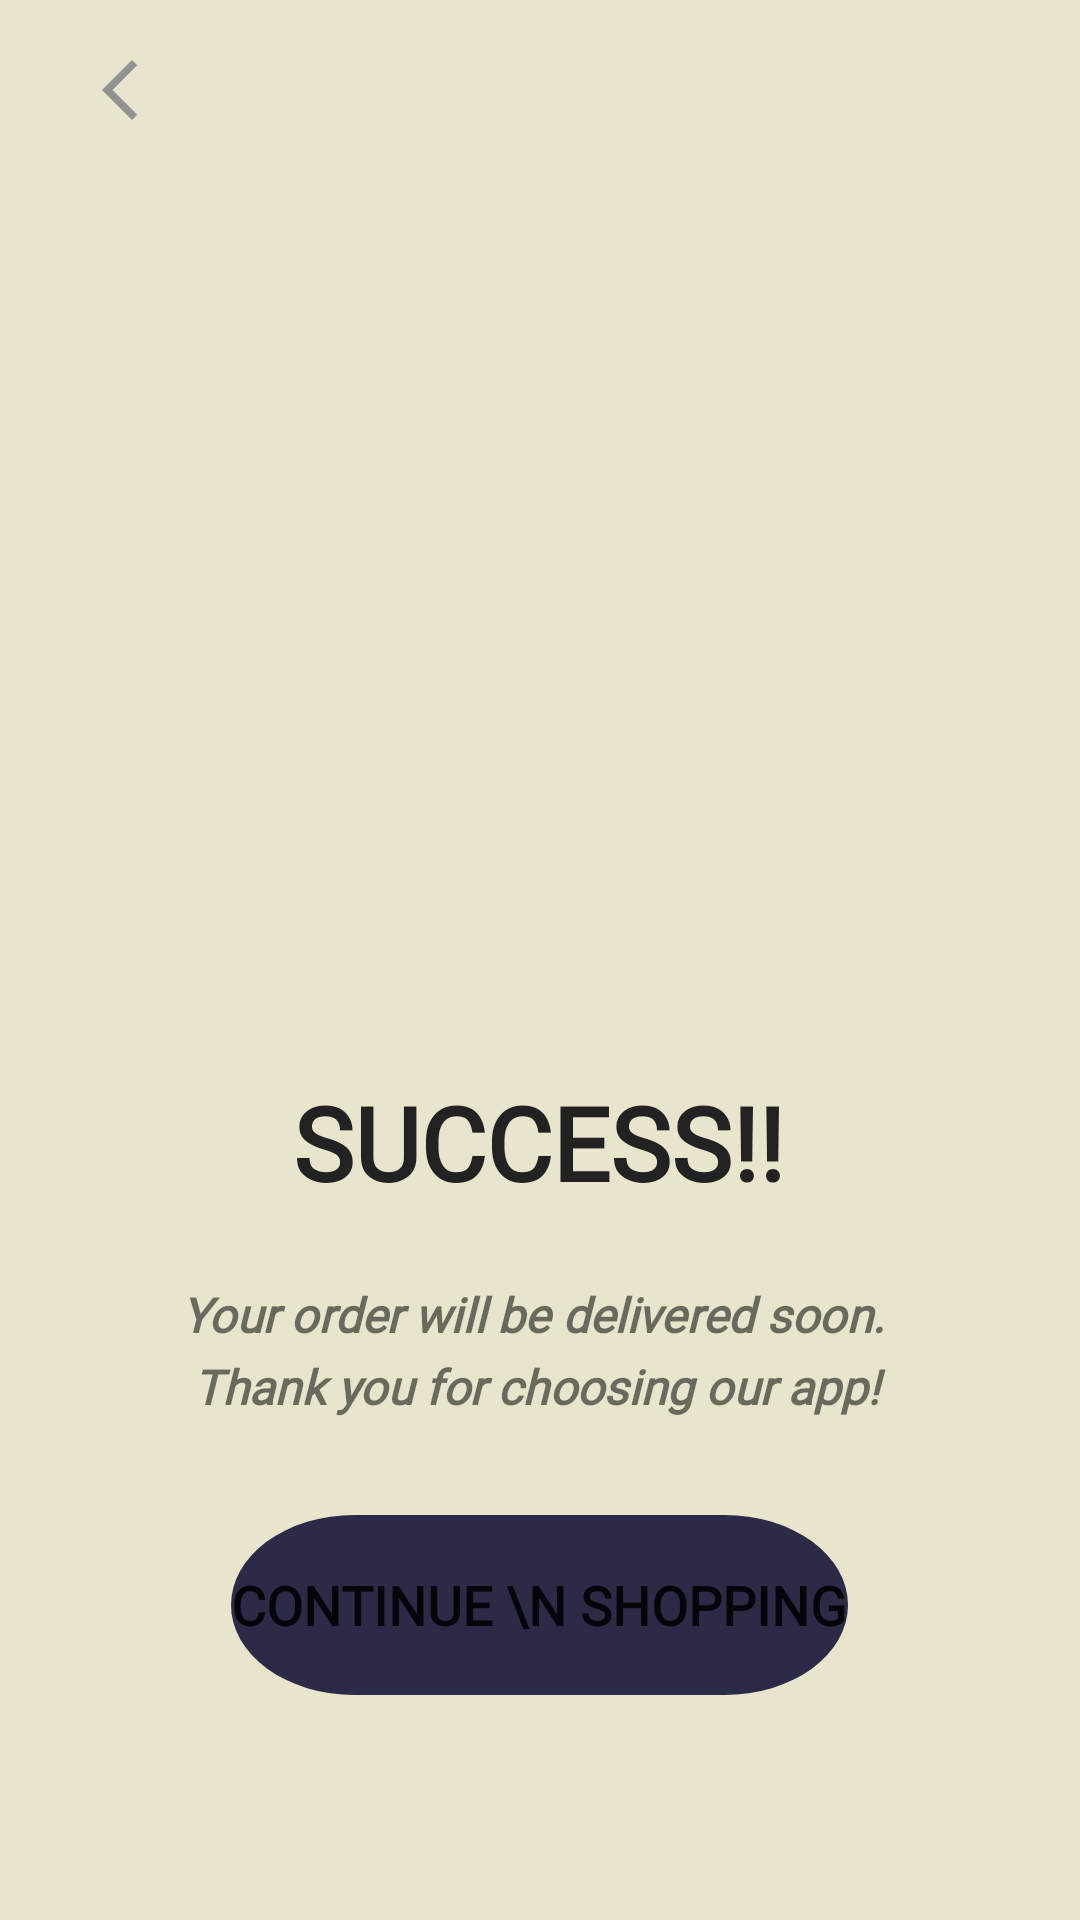

Point at icon controls on the screen. Image size 1080 × 1920, points as point (x, y).
back: point (119, 90)
